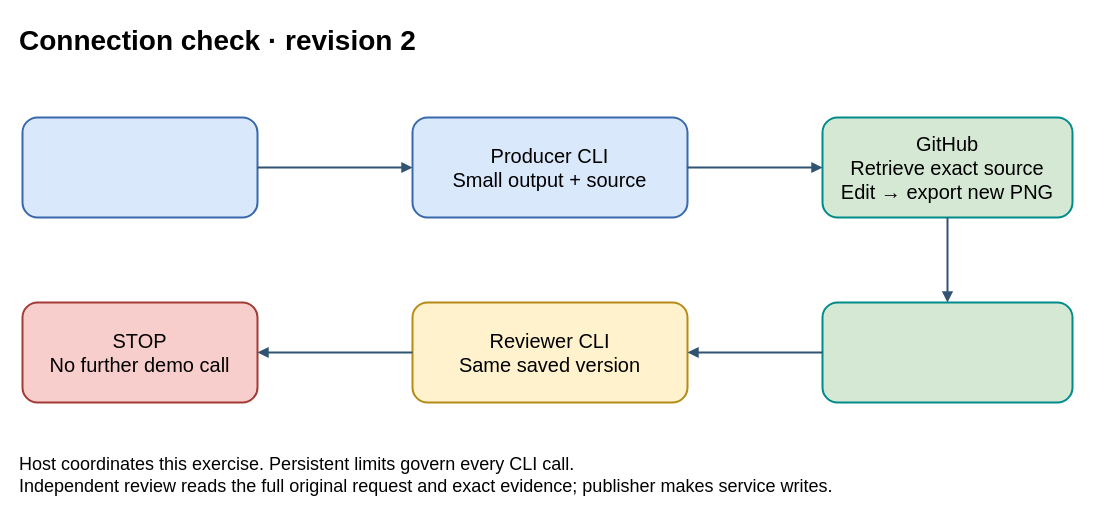
This 1094x529 diagram has some shape labels left out. Each missing label, with the centre of its shape:
Confluence Readable record + PNG: (x=947, y=352)
Jira One authorised task: (x=139, y=167)
